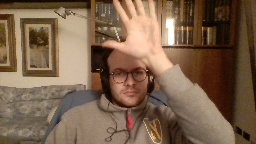Mano_aperta: (99, 0, 162, 62)
